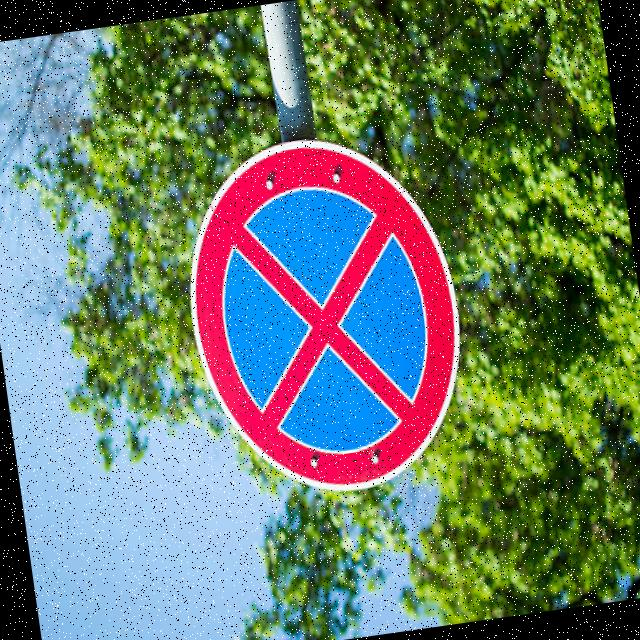no_parking: (162, 108, 494, 518)
